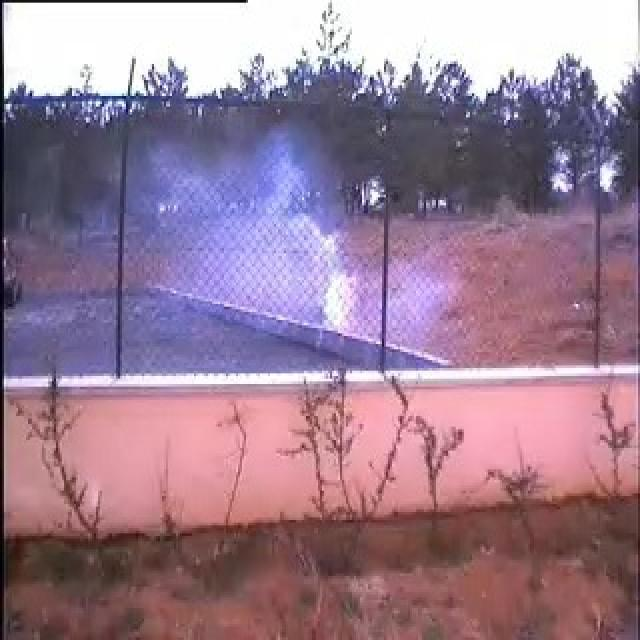smoke: (133, 118, 439, 336)
